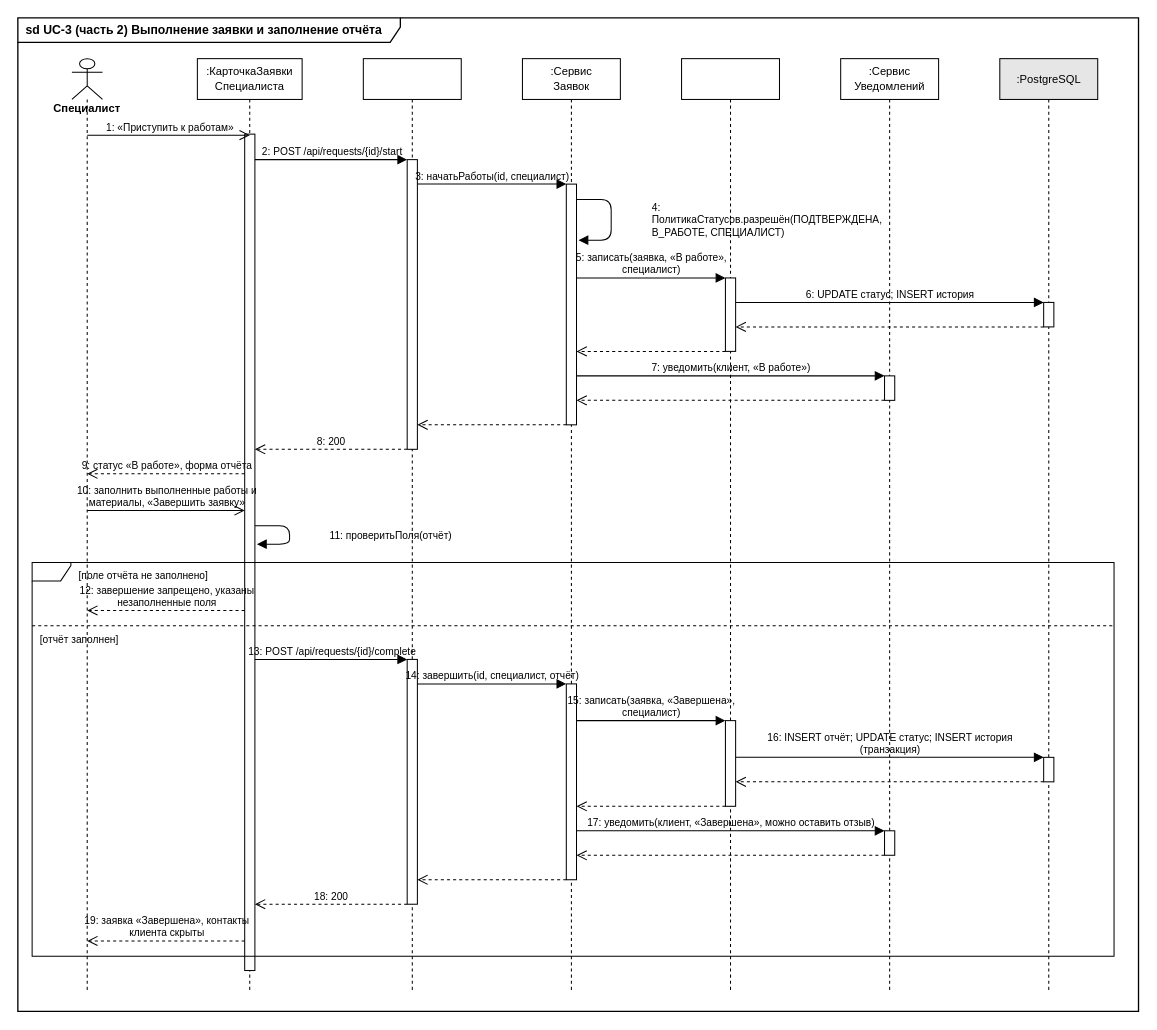
The diagram is 1157 pixels wide and 1030 high, and some of its shapes have lost their labels. The shapes that lost their labels are listed below. From the top down, each one's box as (x1, y1, x2, y2) in pixels, then its label:
(362, 58, 461, 991): :Контроллер Заявок
(681, 58, 779, 991): :Сервис Истории
(31, 562, 1114, 956): alt
